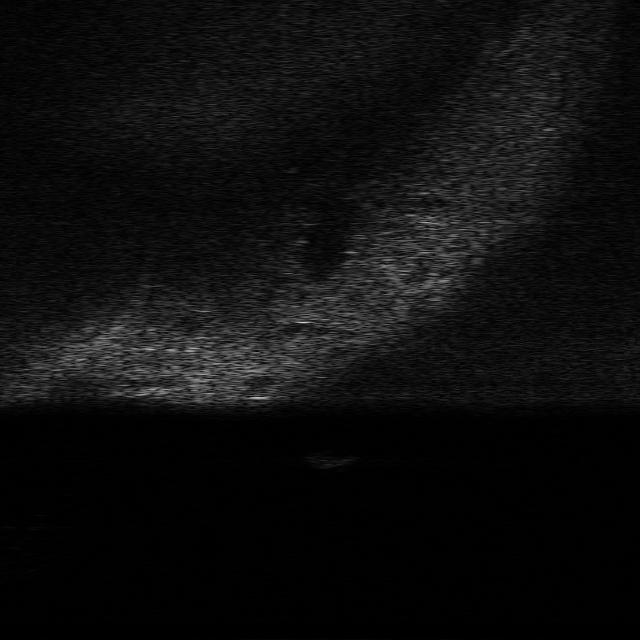cube: (302, 448, 358, 470)
